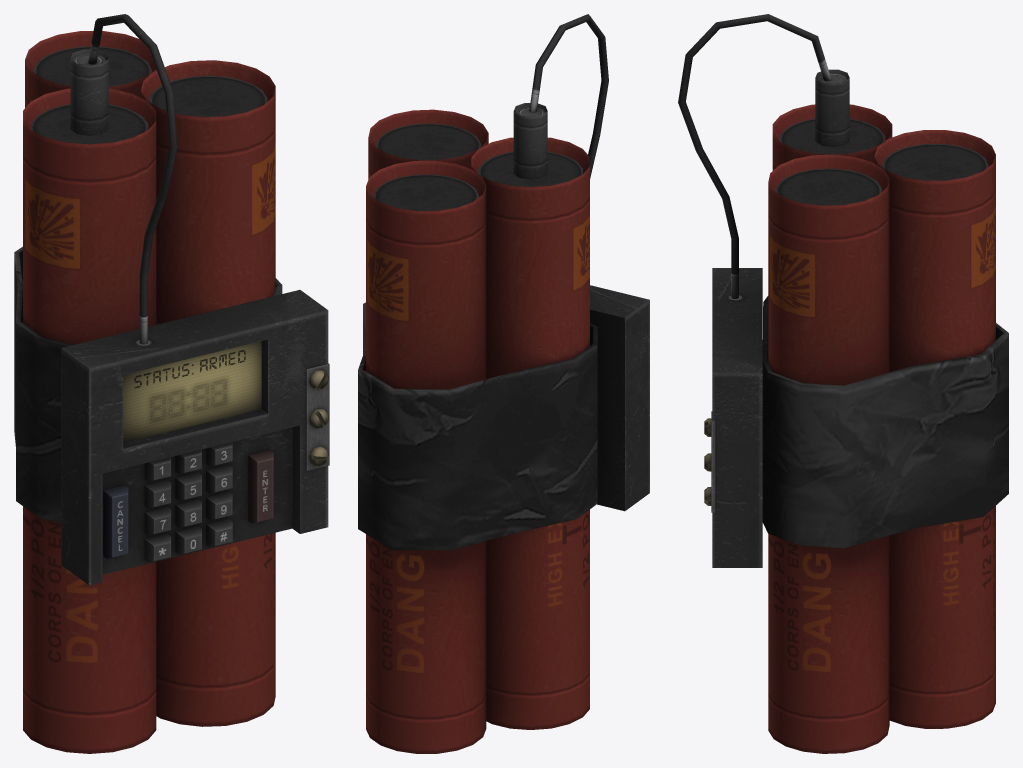
Rendered from Tnt.FBX.
3 renders of one model, left to right at view 1: azimuth 30°, elevation 25°; view 2: azimuth 150°, elevation 25°; view 3: azimuth 270°, elevation 25°, orthographic. The views are drawn at different scales.
Parts seen in each view (by area): view 1: Tnt; view 2: Tnt; view 3: Tnt.
Boxes of the visible parts, x1,y1,x2,y2 form: Tnt: (14, 14, 329, 753); Tnt: (358, 14, 649, 753); Tnt: (678, 14, 1008, 753).
Bounding box in the file's own units: 3.33 × 9.42 × 4.26.
